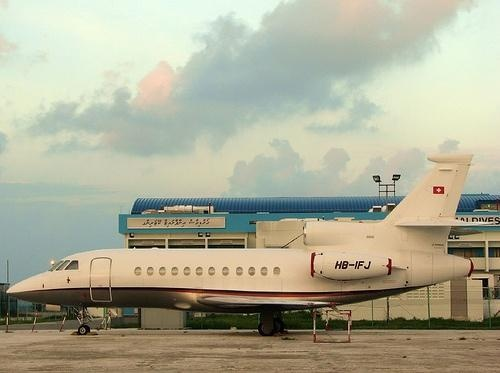aeroplane: (7, 151, 475, 339)
